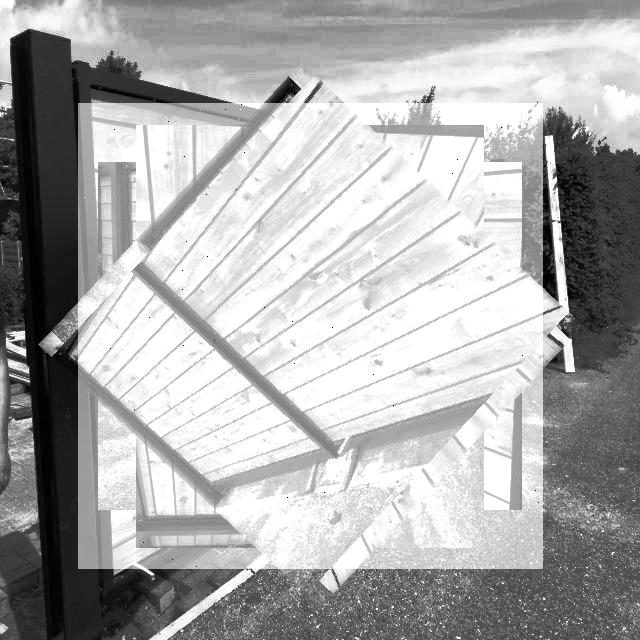fences: (78, 103, 543, 569)
